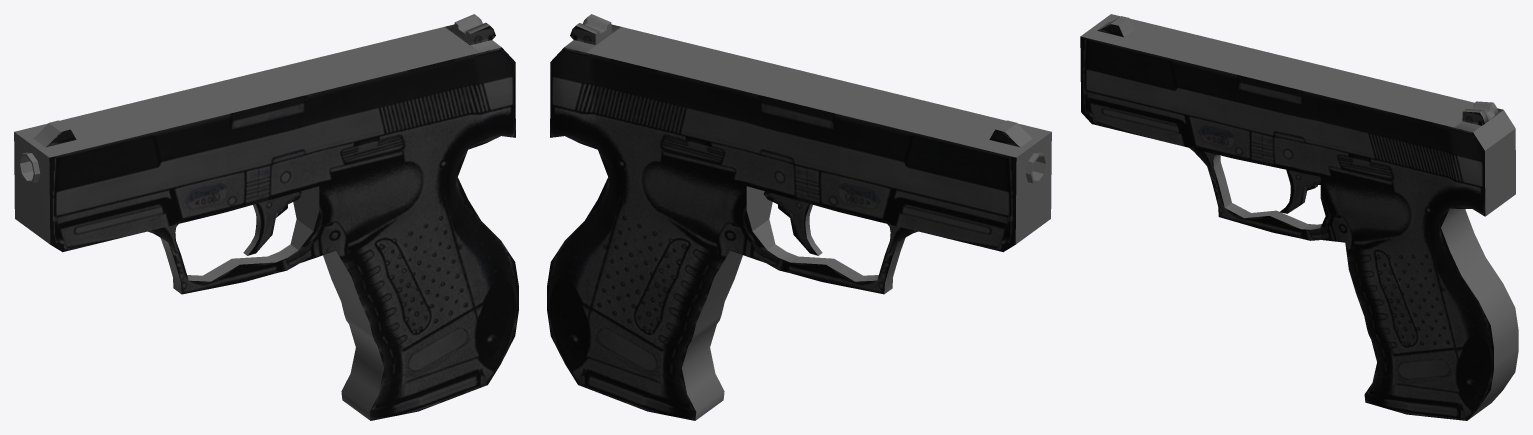
The model's file is Gun(LowPoly).fbx.
3 views of the same model, side by side, from view 1: azimuth 30°, elevation 25°; view 2: azimuth 150°, elevation 25°; view 3: azimuth 330°, elevation 25° (orthographic). The views are drawn at different scales.
Parts seen in each view (by area): view 1: Gun_LP; view 2: Gun_LP; view 3: Gun_LP.
Boxes of the visible parts, x1,y1,x2,y2 form: Gun_LP: (14,14,518,420); Gun_LP: (547,14,1051,420); Gun_LP: (1080,14,1518,420).
Bounding box in the file's own units: 30.26 × 21.92 × 3.88.
